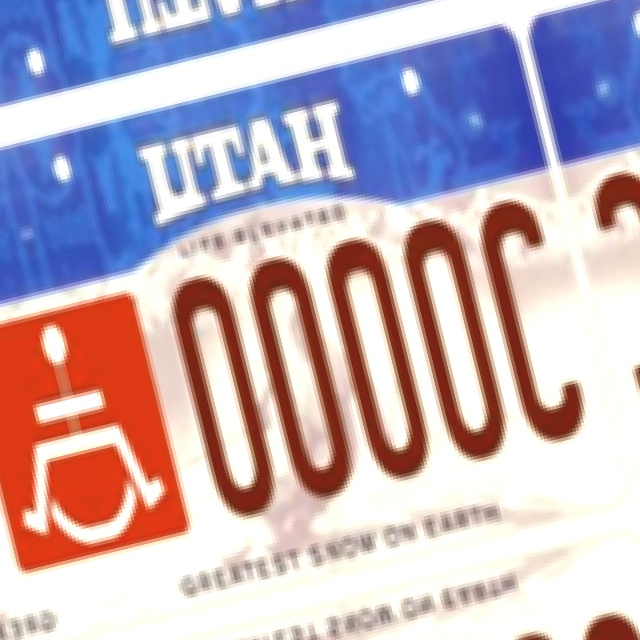ISA: (48, 303, 174, 539), (0, 320, 101, 557)
